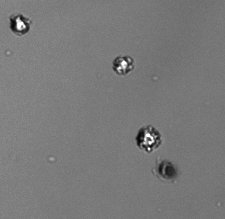Dead Cell: (157, 159, 179, 181)
Living Cell: (134, 125, 164, 152), (8, 13, 31, 35), (111, 54, 135, 75)
